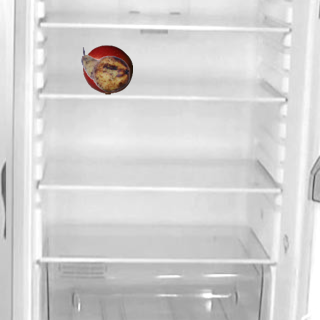Apple Braeburn: (82, 44, 132, 94)
Pear Abate: (80, 44, 130, 94)
